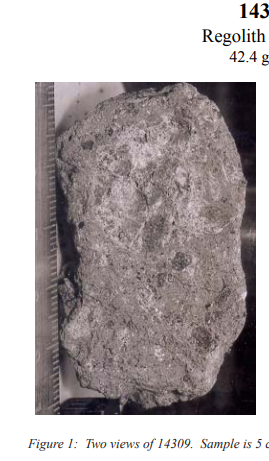Breccia: (56, 79, 243, 405), (55, 165, 244, 334)
